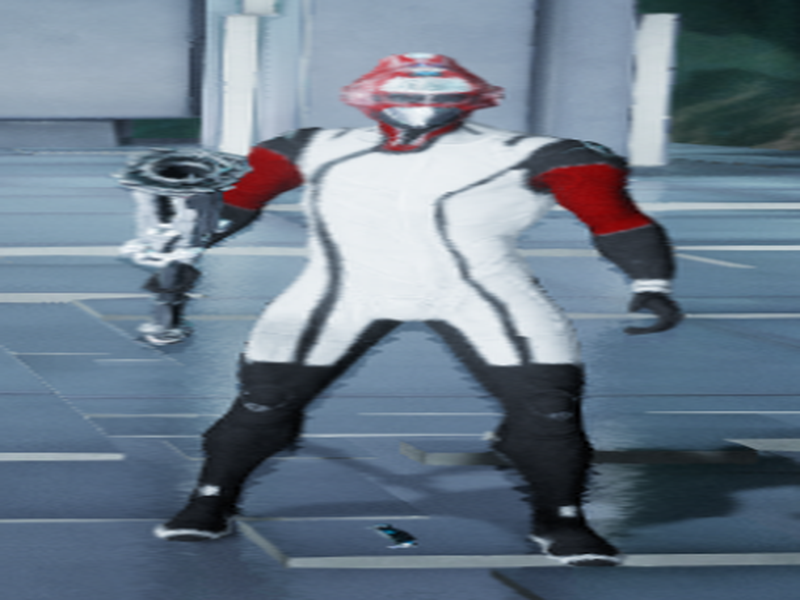corpus: (103, 5, 710, 583)
